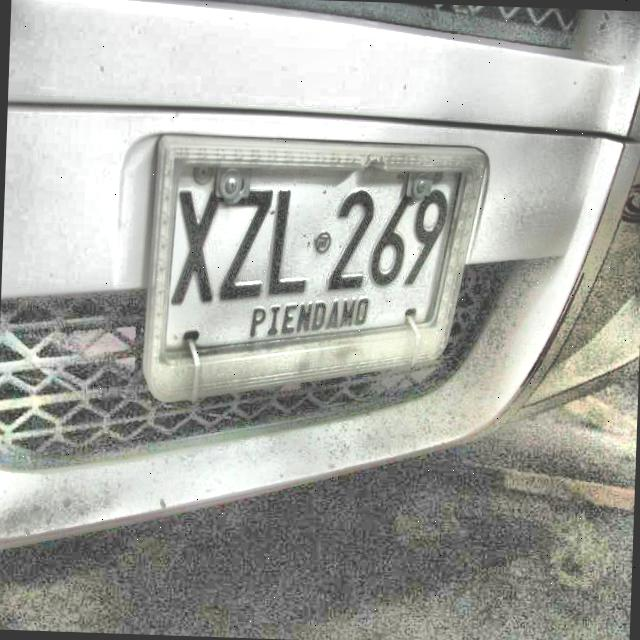2: (322, 188, 381, 293)
6: (365, 189, 419, 291)
9: (400, 191, 455, 293)
L: (264, 187, 311, 301)
X: (169, 189, 225, 306)
Z: (217, 189, 276, 302)
